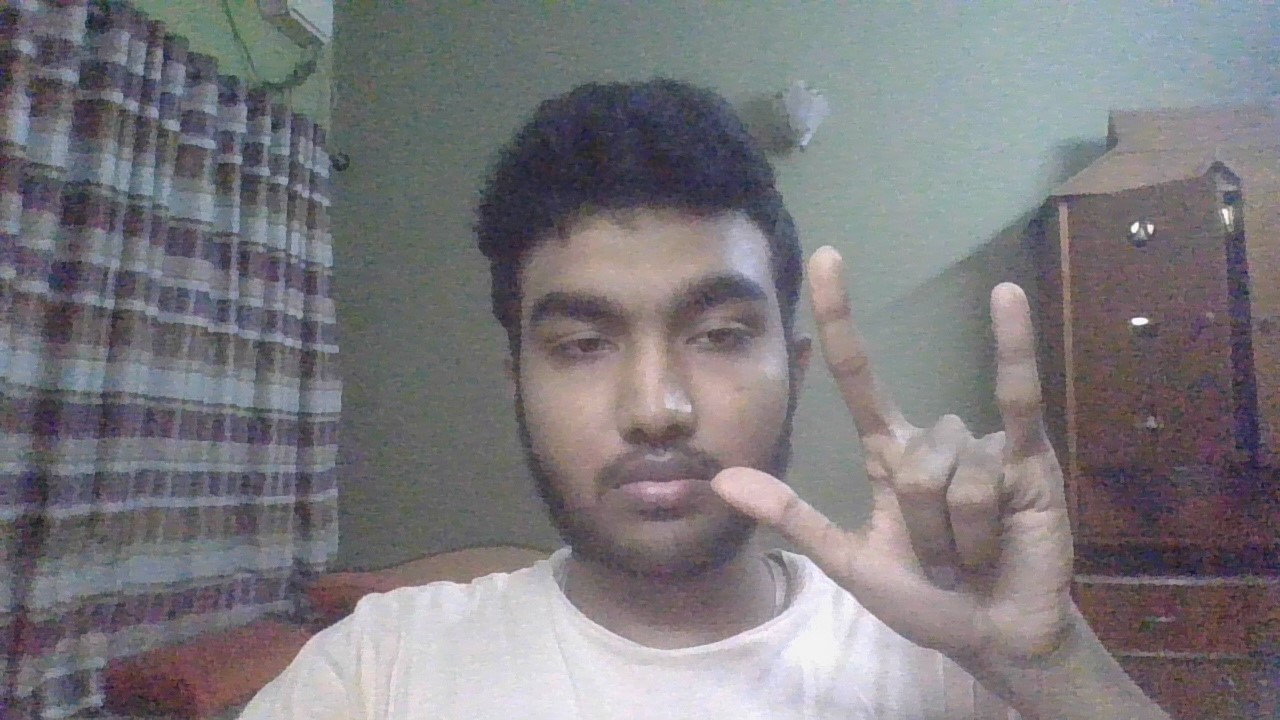I Love You: (703, 221, 1118, 711)
